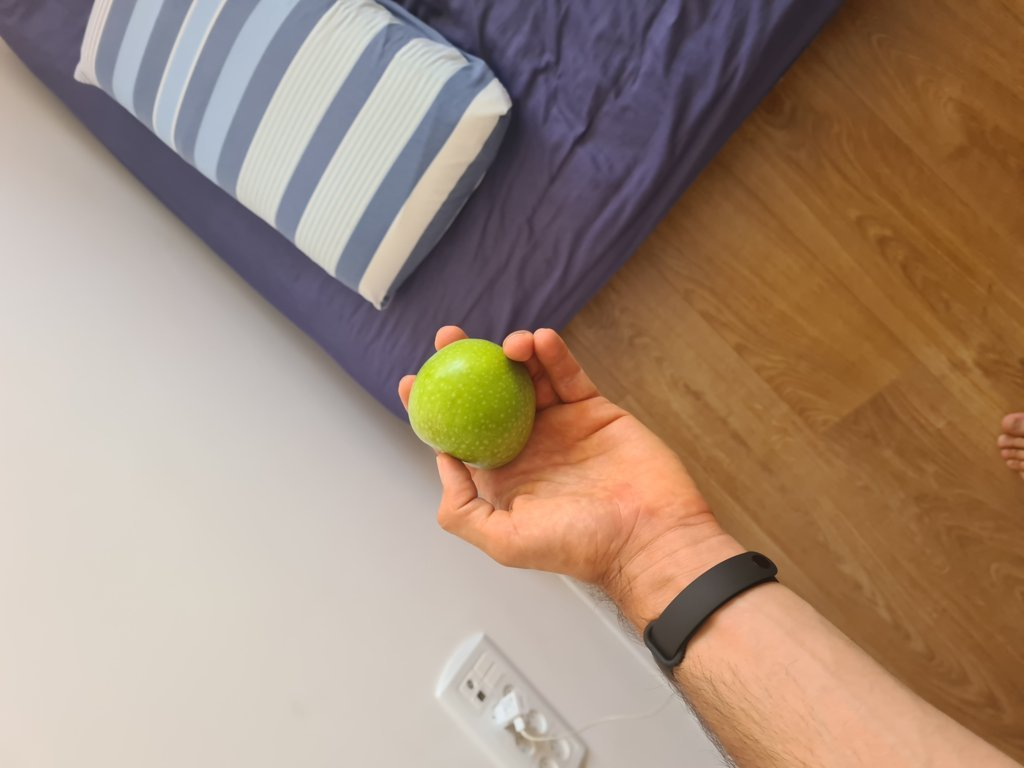apple: (403, 337, 547, 460)
